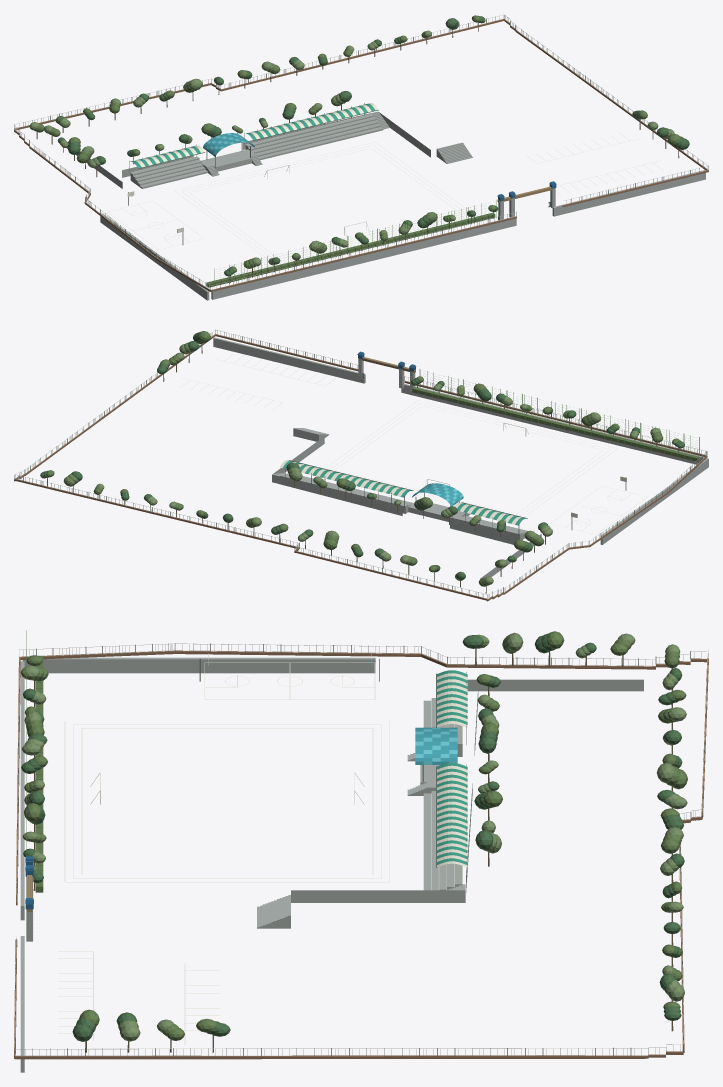
3 renders of one model, top to bottom at view 1: azimuth 30°, elevation 25°; view 2: azimuth 150°, elevation 25°; view 3: azimuth 270°, elevation 25°, orthographic. The views are drawn at different scales.
Visible parts, largest first — view 1: planting_mixed-trees, facility_perimeter-open-fence, facility_southwest-retaining-wall, facility_stand-tiered, facility_open-striped-stand-canopy, planting_south-hedge, facility_open-stage, facility_terrace-edge, facility_south-ball-net, facility_south-gate, facility_field-track-lines, stairs_wing-to-gym; view 2: planting_mixed-trees, facility_perimeter-open-fence, facility_southwest-retaining-wall, facility_terrace-edge, facility_open-striped-stand-canopy, planting_south-hedge, facility_stand-tiered, facility_open-stage, facility_south-gate, facility_field-track-lines, facility_south-ball-net; view 3: planting_mixed-trees, facility_perimeter-open-fence, facility_southwest-retaining-wall, facility_open-striped-stand-canopy, facility_terrace-edge, facility_field-track-lines, facility_stand-tiered, facility_open-stage, stairs_wing-to-gym, planting_south-hedge, facility_basketball-lines, facility_parking-lines (+1 smaller).
Part boxes in pixels (<box>): planting_mixed-trees: <box>29,15,689,282</box>; facility_perimeter-open-fence: <box>14,14,708,291</box>; facility_southwest-retaining-wall: <box>100,170,705,300</box>; facility_stand-tiered: <box>130,114,383,188</box>; facility_open-striped-stand-canopy: <box>129,103,378,172</box>; planting_south-hedge: <box>206,212,495,287</box>; facility_open-stage: <box>201,133,255,171</box>; facility_terrace-edge: <box>60,112,430,188</box>; facility_south-ball-net: <box>214,200,496,286</box>; facility_south-gate: <box>497,181,556,219</box>; facility_field-track-lines: <box>175,142,468,261</box>; stairs_wing-to-gym: <box>436,142,472,163</box>; planting_mixed-trees: <box>40,331,684,593</box>; facility_perimeter-open-fence: <box>14,329,707,601</box>; facility_southwest-retaining-wall: <box>213,337,708,544</box>; facility_terrace-edge: <box>273,436,541,585</box>; facility_open-striped-stand-canopy: <box>280,460,527,535</box>; planting_south-hedge: <box>412,387,699,461</box>; facility_stand-tiered: <box>280,473,527,539</box>; facility_open-stage: <box>408,483,464,521</box>; facility_south-gate: <box>357,351,416,390</box>; facility_field-track-lines: <box>325,400,616,516</box>; facility_south-ball-net: <box>419,369,699,455</box>; planting_mixed-trees: <box>20,631,687,1052</box>; facility_perimeter-open-fence: <box>14,643,708,1059</box>; facility_southwest-retaining-wall: <box>20,657,375,1072</box>; facility_open-striped-stand-canopy: <box>436,670,467,879</box>; facility_terrace-edge: <box>291,679,643,902</box>; facility_field-track-lines: <box>64,721,389,882</box>; facility_stand-tiered: <box>423,698,462,890</box>; facility_open-stage: <box>415,727,457,793</box>; stairs_wing-to-gym: <box>257,895,290,928</box>; planting_south-hedge: <box>35,656,43,892</box>; facility_basketball-lines: <box>204,662,375,699</box>; facility_parking-lines: <box>58,951,219,1044</box>.
Bounding box in the file's own units: 136 × 10.03 × 98.4.
